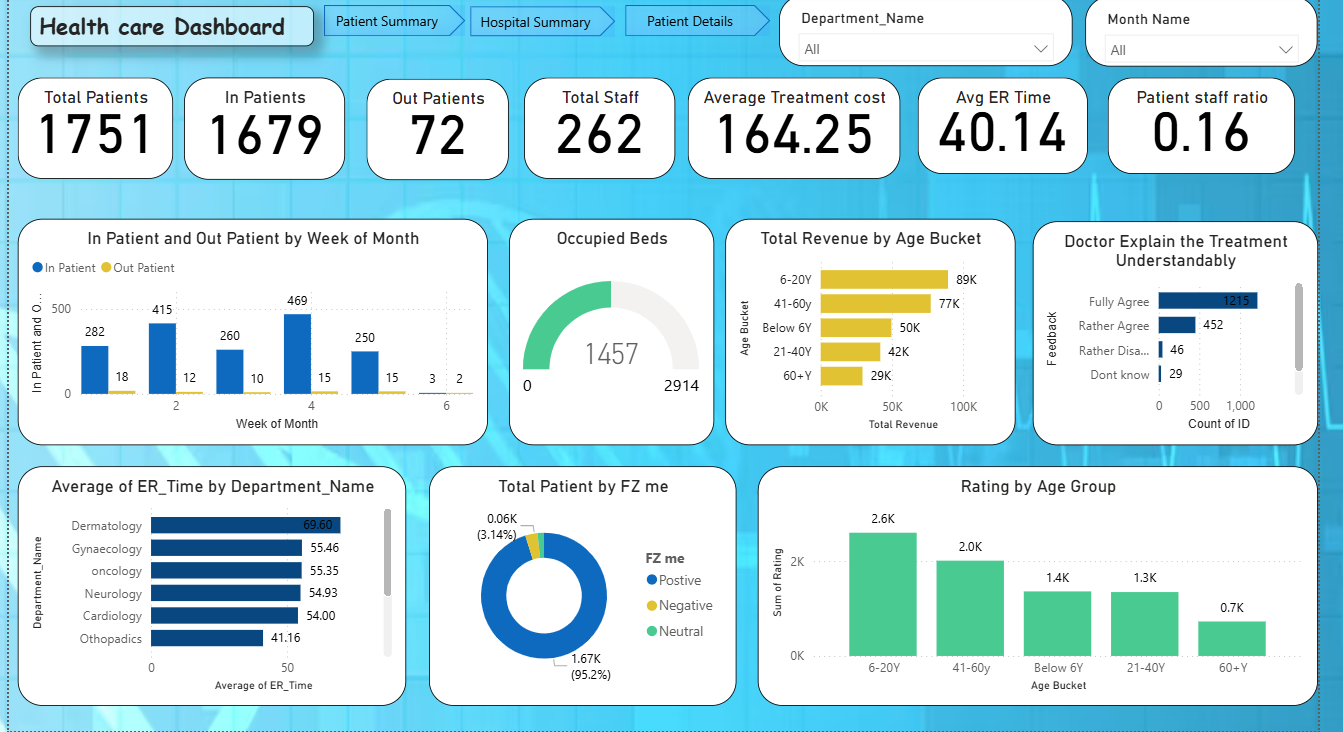

What the dashboard file says about the page in this screenshot:
{"tool":"powerbi","page":{"name":"Hospital Summary","canvas":[1280,720],"ordinal":0},"visuals":[{"type":"textbox","title":"Health care Dashboard","box":[20.8,11,277.6,39.1],"z":0},{"type":"slicer","fields":{"Values":["Department.Department_Name"]},"box":[753.3,0,287.4,58.7],"z":1000},{"type":"slicer","fields":{"Values":["Patients/Admissions.Month Name"]},"box":[1052.6,1.2,227.4,57.5],"z":2000},{"type":"card","title":"Total Patients","fields":{"Values":["Patients/Admissions.Name"]},"box":[8.6,80.7,151.6,99],"z":3000},{"type":"card","title":"In Patients","fields":{"Values":["Bed_Detail.In Patient"]},"box":[171.2,80.7,157.7,100.3],"z":4000},{"type":"card","title":"Out Patients","fields":{"Values":["Bed_Detail.Out Patient"]},"box":[349.7,81.9,139.4,99],"z":5000},{"type":"card","title":"Total Staff","fields":{"Values":["Staff_Detail.Staff_Id"]},"box":[503.8,80.7,148,99],"z":6000},{"type":"card","title":"Average Treatment cost","fields":{"Values":["Bed_Detail.Avg Treatment Cost"]},"box":[664,80.7,207.9,99],"z":7000},{"type":"card","title":"Avg ER Time","fields":{"Values":["Patients/Admissions.ER_Time"]},"box":[889,80.7,166.3,94.2],"z":8000},{"type":"card","title":"Patient staff ratio","fields":{"Values":["Bed_Detail.Patient Staff Ratio"]},"box":[1074.9,80.7,183.4,94.2],"z":9000},{"type":"clusteredColumnChart","fields":{"Category":["Patients/Admissions.Week of Month"],"Y":["Bed_Detail.In Patient","Bed_Detail.Out Patient"]},"box":[8.6,218.9,459.8,221.3],"z":10000},{"type":"gauge","fields":{"Y":["Bed_Detail.Occupied Beds"]},"box":[489.1,218.9,200.5,221.3],"z":11000},{"type":"clusteredBarChart","fields":{"Category":["Patients/Admissions.Age Bucket"],"Y":["Bed_Detail.Total Revenue"]},"box":[700.7,218.9,283.7,221.3],"z":12000},{"type":"barChart","title":"Doctor Explain the Treatment Understandably","fields":{"Category":["Patients/Admissions.Feedback"],"Y":["Patients/Admissions.ID"]},"box":[1001.5,221.3,278.8,218.9],"z":13000},{"type":"barChart","fields":{"Category":["Department.Department_Name"],"Y":["Patients/Admissions.ER_Time"]},"box":[8.6,461,380.3,234.8],"z":14000},{"type":"donutChart","title":"Total Patient by FZ me","fields":{"Category":["Patients/Admissions.FZ me"],"Y":["Patients/Admissions.ID"]},"box":[410.9,461,300.8,234.8],"z":15000},{"type":"shape","box":[308.2,9.8,138.2,30.6],"z":16000},{"type":"columnChart","title":" Rating by Age Group","fields":{"Category":["Patients/Admissions.Age Bucket"],"Y":["Patients/Admissions.Rating"]},"box":[732.5,461,547.8,234.8],"z":17000},{"type":"shape","box":[451.2,11,141.8,29.3],"z":18000},{"type":"shape","box":[602.9,9.8,141.8,30.6],"z":19000}]}

Visuals, with their boxes on the page's 1280x720 design canvas (x1, y1, x2, y2). These are canvas units, not pixel positions in the 1343x732 screenshot, which may show the page scaled, cropped or inside an application window:
"Health care Dashboard" textbox: select_region(21, 11, 298, 50)
slicer - Department.Department_Name: select_region(753, 0, 1041, 59)
slicer - Patients/Admissions.Month Name: select_region(1053, 1, 1280, 59)
"Total Patients" card: select_region(9, 81, 160, 180)
"In Patients" card: select_region(171, 81, 329, 181)
"Out Patients" card: select_region(350, 82, 489, 181)
"Total Staff" card: select_region(504, 81, 652, 180)
"Average Treatment cost" card: select_region(664, 81, 872, 180)
"Avg ER Time" card: select_region(889, 81, 1055, 175)
"Patient staff ratio" card: select_region(1075, 81, 1258, 175)
clusteredColumnChart - Patients/Admissions.Week of Month x Bed_Detail.In Patient: select_region(9, 219, 468, 440)
gauge - Bed_Detail.Occupied Beds: select_region(489, 219, 690, 440)
clusteredBarChart - Patients/Admissions.Age Bucket x Bed_Detail.Total Revenue: select_region(701, 219, 984, 440)
"Doctor Explain the Treatment Understandably" barChart: select_region(1002, 221, 1280, 440)
barChart - Department.Department_Name x Patients/Admissions.ER_Time: select_region(9, 461, 389, 696)
"Total Patient by FZ me" donutChart: select_region(411, 461, 712, 696)
shape: select_region(308, 10, 446, 40)
" Rating by Age Group" columnChart: select_region(732, 461, 1280, 696)
shape: select_region(451, 11, 593, 40)
shape: select_region(603, 10, 745, 40)
